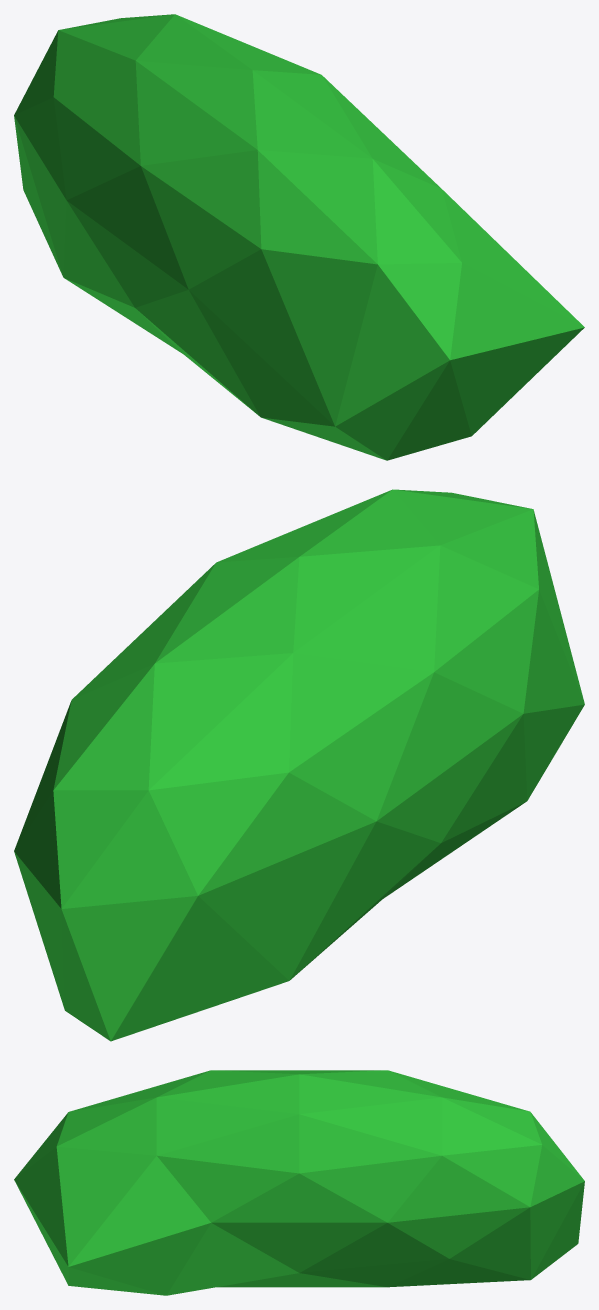
The model's file is Bush.fbx.
3 renders of one model, top to bottom at view 1: azimuth 30°, elevation 25°; view 2: azimuth 150°, elevation 25°; view 3: azimuth 270°, elevation 25°, orthographic. The views are drawn at different scales.
Parts seen in each view (by area): view 1: Icosphere; view 2: Icosphere; view 3: Icosphere.
Boxes of the visible parts, <box> form: Icosphere: <box>14,14,584,460</box>; Icosphere: <box>14,489,584,1041</box>; Icosphere: <box>14,1070,584,1295</box>.
Size of the model in its own units: 312 by 290 by 718.
